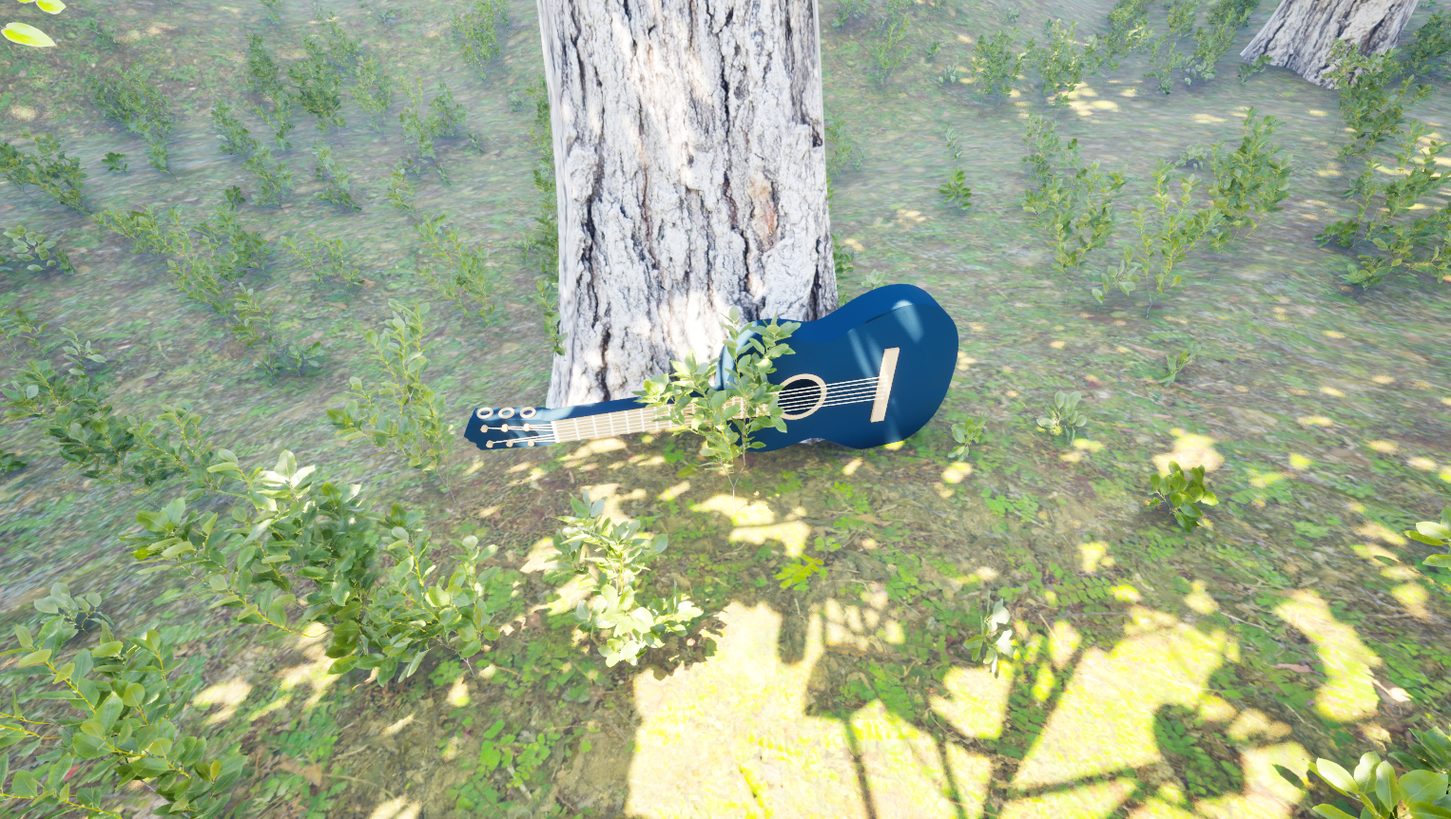Guitar: (409, 223, 979, 632)
